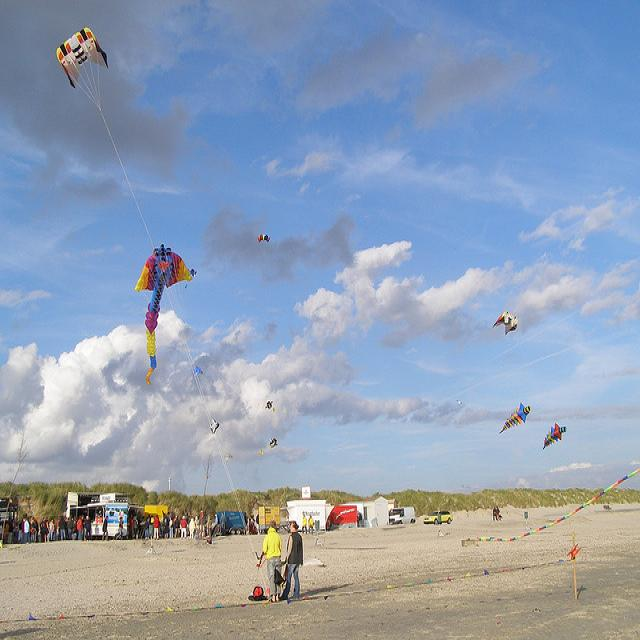Vehicle: (212, 510, 246, 536), (390, 506, 416, 525), (423, 509, 453, 525)
